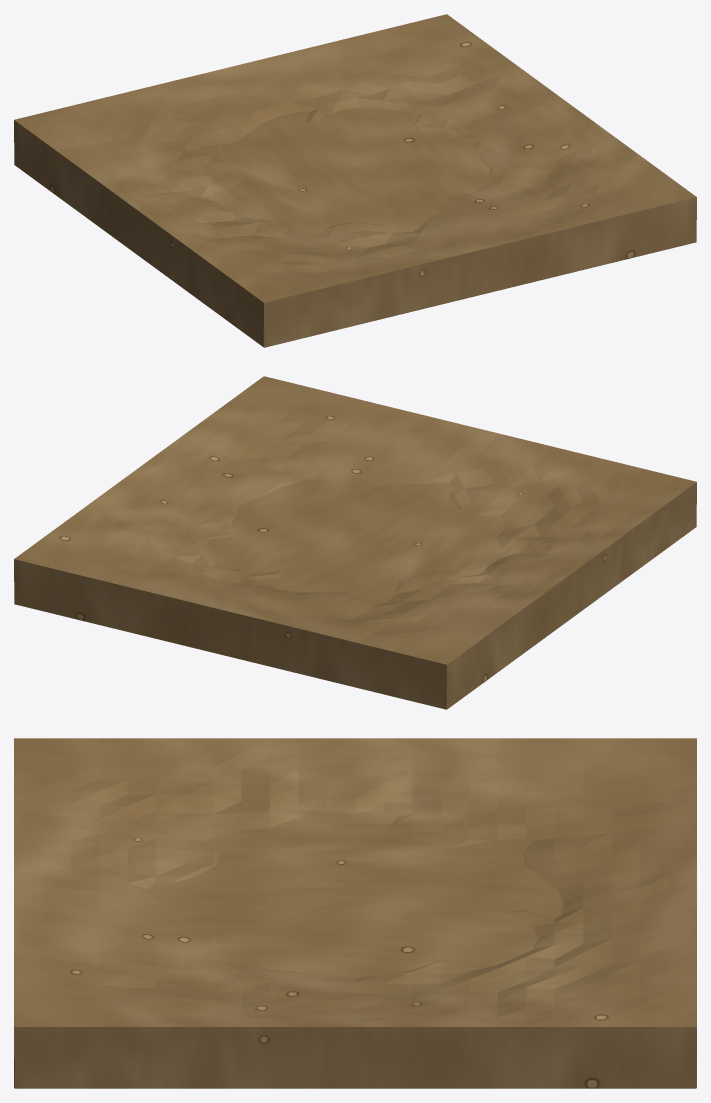
Rendered from floor_sand_b.glb.
3 renders of one model, top to bottom at view 1: azimuth 30°, elevation 25°; view 2: azimuth 150°, elevation 25°; view 3: azimuth 270°, elevation 25°, orthographic. The views are drawn at different scales.
Visible parts, largest first — view 1: floor_sand_b; view 2: floor_sand_b; view 3: floor_sand_b.
Boxes of the visible parts, x1,y1,x2,y2 form: floor_sand_b: (14, 14, 696, 347); floor_sand_b: (14, 376, 696, 709); floor_sand_b: (14, 738, 696, 1088).
Size of the model in its own units: 1 by 0.1 by 1.
Materials: 1 (1 with a texture image).
